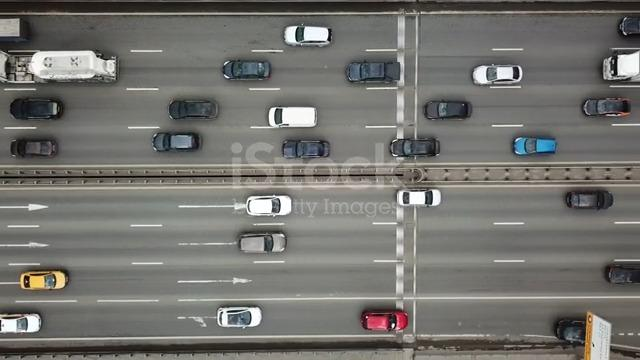Cars: (29, 50, 118, 84), (10, 97, 63, 121), (346, 61, 401, 84), (603, 50, 640, 82), (284, 25, 333, 48), (472, 64, 523, 86), (169, 99, 219, 121), (268, 107, 318, 129), (223, 59, 272, 81), (20, 270, 69, 291), (152, 132, 201, 153), (583, 97, 631, 118), (425, 100, 473, 121), (390, 138, 440, 158), (11, 138, 58, 159), (1, 313, 42, 335), (283, 140, 330, 159), (513, 136, 557, 156), (619, 16, 640, 37)
